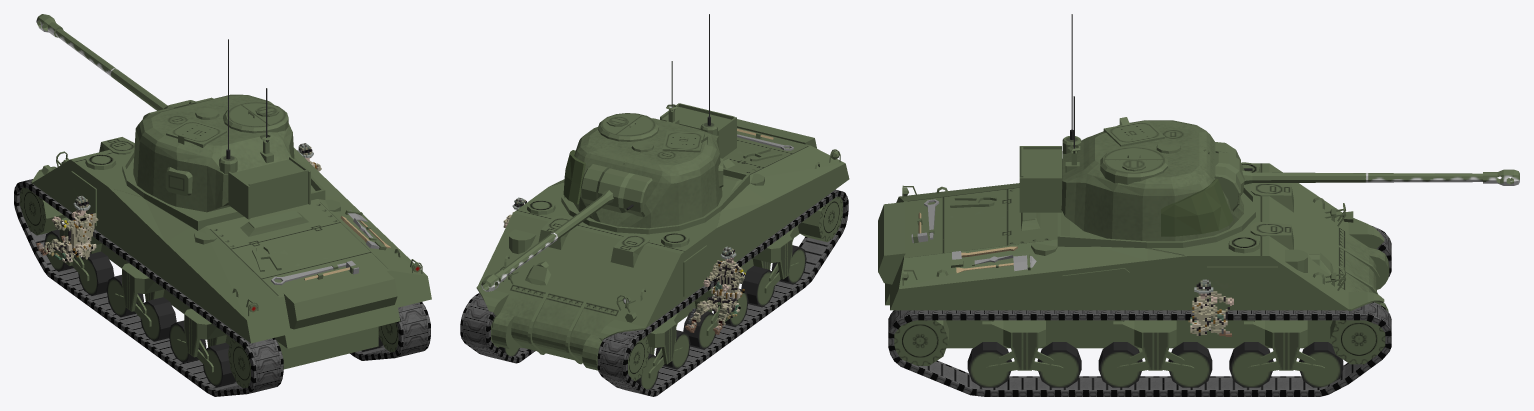
The model's file is m4_firefly_base.glb.
3 renders of one model, left to right at view 1: azimuth 30°, elevation 25°; view 2: azimuth 150°, elevation 25°; view 3: azimuth 270°, elevation 25°, orthographic. The views are drawn at different scales.
Visible parts, largest first — view 1: 00_chassis_m4_firefly_chassis.mesh, 03_turret_m4_firefly_turret.mesh, 06_track_m4a4_track.mesh, 05_track_m4a4_track.mesh, crew_soldier_SLOT_00_DRIVER, weapon_turret_0_m4_firefly_cannon.mesh; view 2: 00_chassis_m4_firefly_chassis.mesh, 03_turret_m4_firefly_turret.mesh, 06_track_m4a4_track.mesh, crew_soldier_SLOT_00_DRIVER, 05_track_m4a4_track.mesh, weapon_turret_0_m4_firefly_cannon.mesh; view 3: 00_chassis_m4_firefly_chassis.mesh, 03_turret_m4_firefly_turret.mesh, 05_track_m4a4_track.mesh, weapon_turret_0_m4_firefly_cannon.mesh, crew_soldier_SLOT_01_GUNNER.
Part boxes in pixels (x1,y1,x2,y2): 00_chassis_m4_firefly_chassis.mesh: [31, 137, 431, 387]; 03_turret_m4_firefly_turret.mesh: [133, 39, 310, 219]; 06_track_m4a4_track.mesh: [14, 179, 283, 396]; 05_track_m4a4_track.mesh: [350, 302, 430, 360]; crew_soldier_SLOT_00_DRIVER: [36, 195, 98, 262]; weapon_turret_0_m4_firefly_cannon.mesh: [36, 14, 167, 110]; 00_chassis_m4_firefly_chassis.mesh: [476, 119, 849, 389]; 03_turret_m4_firefly_turret.mesh: [563, 14, 736, 228]; 06_track_m4a4_track.mesh: [597, 189, 848, 396]; crew_soldier_SLOT_00_DRIVER: [685, 246, 745, 334]; 05_track_m4a4_track.mesh: [460, 293, 535, 363]; weapon_turret_0_m4_firefly_cannon.mesh: [481, 190, 613, 291]; 00_chassis_m4_firefly_chassis.mesh: [878, 162, 1389, 387]; 03_turret_m4_firefly_turret.mesh: [1019, 14, 1252, 241]; 05_track_m4a4_track.mesh: [888, 302, 1391, 396]; weapon_turret_0_m4_firefly_cannon.mesh: [1242, 169, 1519, 185]; crew_soldier_SLOT_01_GUNNER: [1188, 279, 1233, 336].
Size of the model in its own units: 4.69 by 5.48 by 9.63.
Materials: 41 (5 with a texture image).
